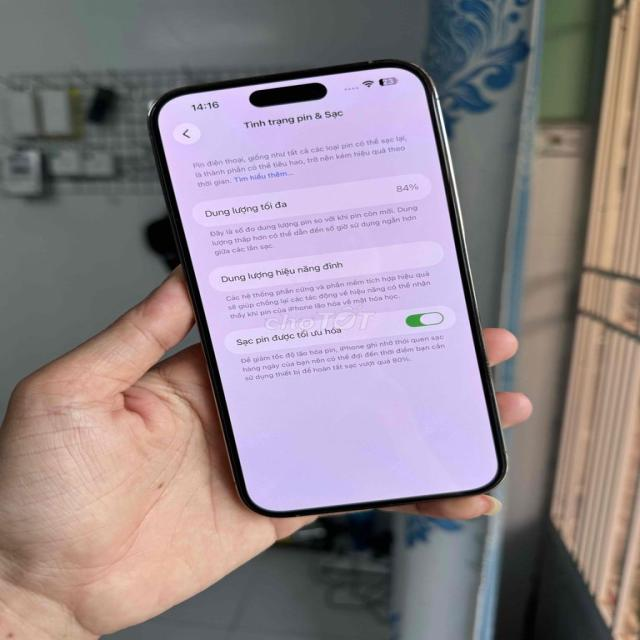gen_14: (152, 53, 513, 521)
